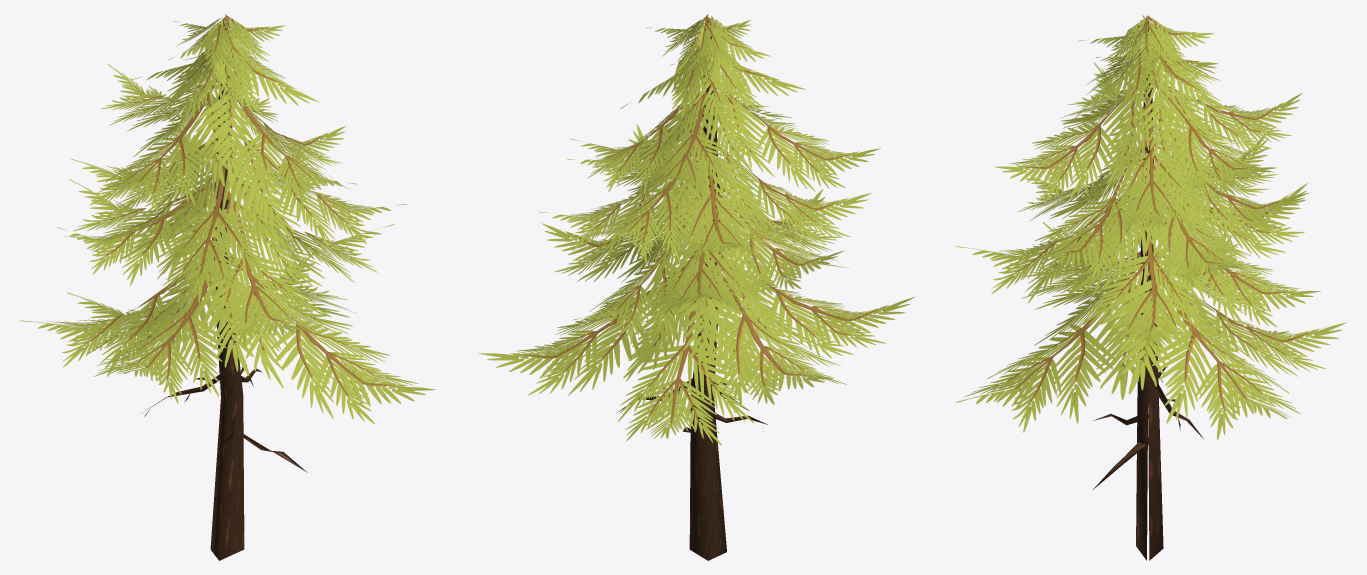
File: tree.glb
3 views of the same model, side by side, from view 1: azimuth 30°, elevation 25°; view 2: azimuth 150°, elevation 25°; view 3: azimuth 270°, elevation 25° (orthographic).
Visible parts, largest first — view 1: Бэс мас; view 2: Бэс мас; view 3: Бэс мас.
Boxes of the visible parts, x1=… form: Бэс мас: x1=20, y1=14, x2=435, y2=560; Бэс мас: x1=478, y1=14, x2=915, y2=560; Бэс мас: x1=956, y1=15, x2=1346, y2=560.
Bounding box in the file's own units: 2.98 × 4.46 × 3.03.
2 materials, 2 textured.
